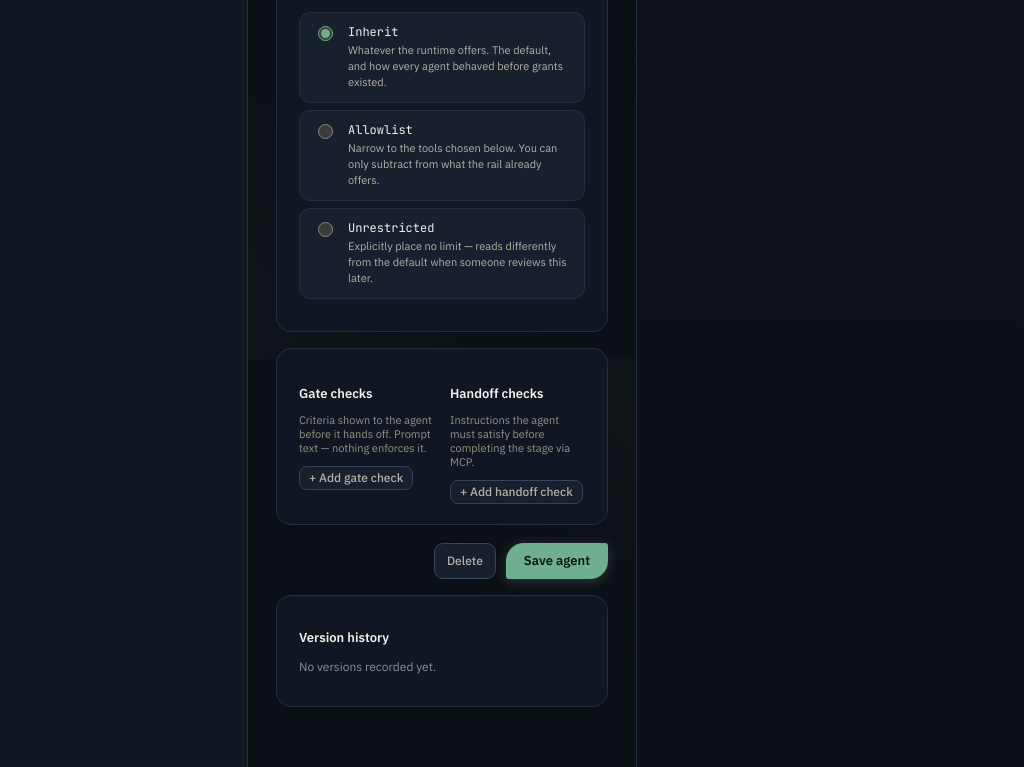
Test case: cancelling the confirm › can be reopened after a cancel
(page scrolled)
Step 1. Click the button "Delete" → (465, 561), box [434,543,496,579]
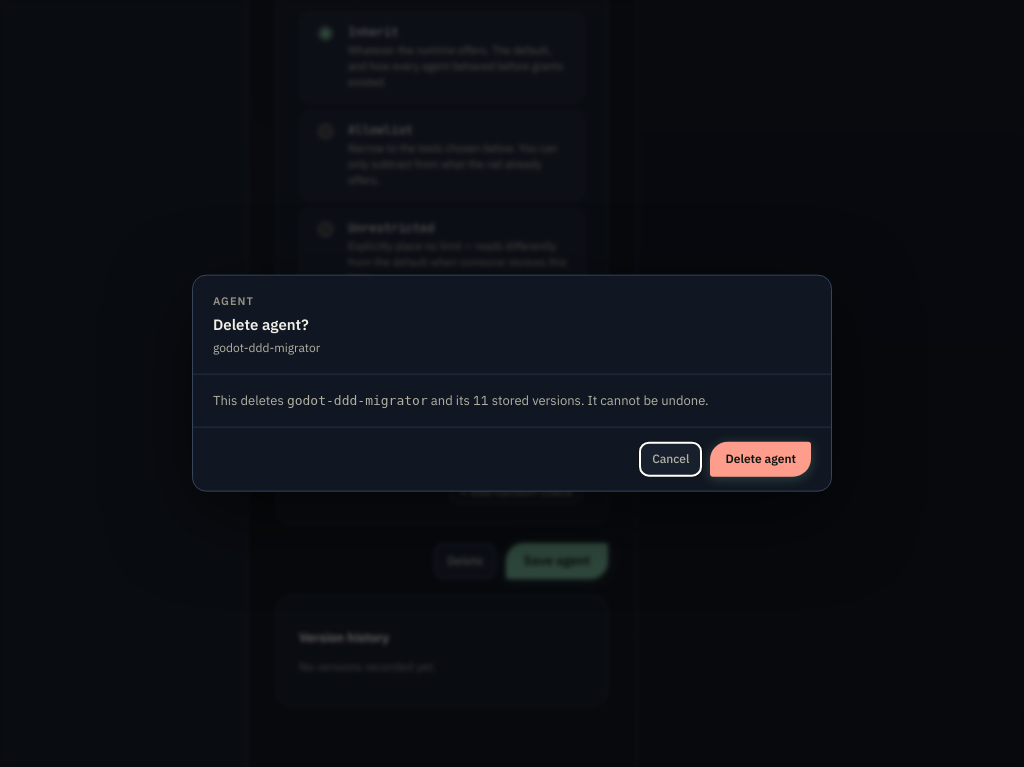
Step 2. Click the button "Cancel" → (671, 459), box [639,442,702,476]
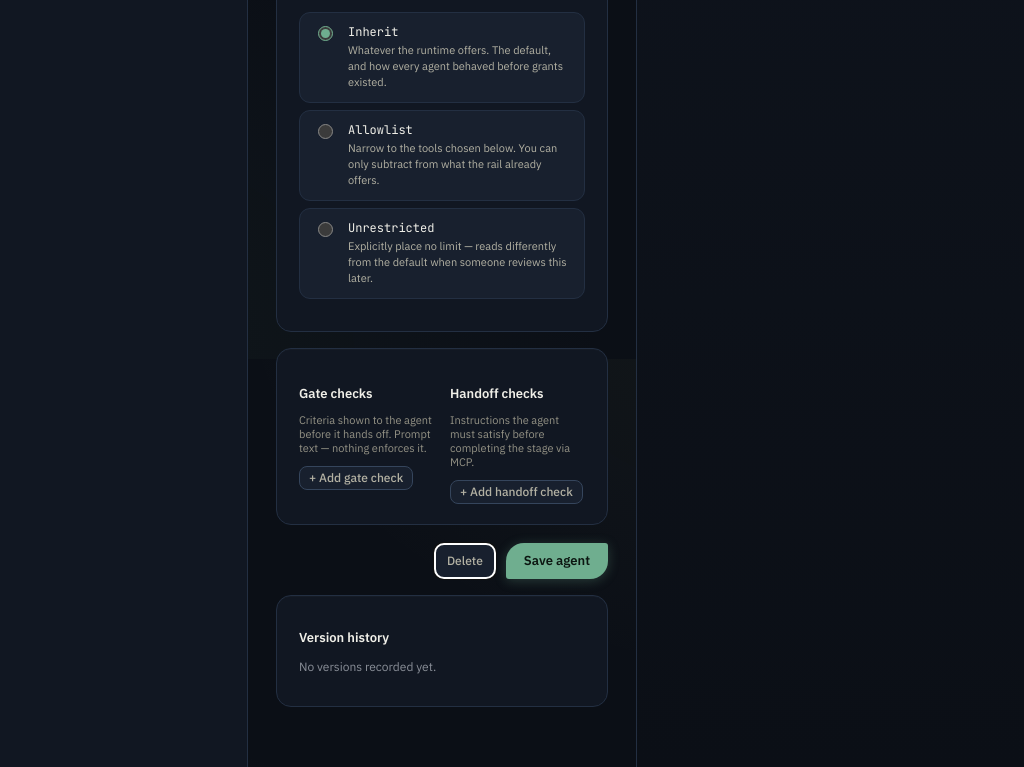
expect the dialog is gone: met
Step 3. Click the button "Delete" → (465, 561), box [434,543,496,579]
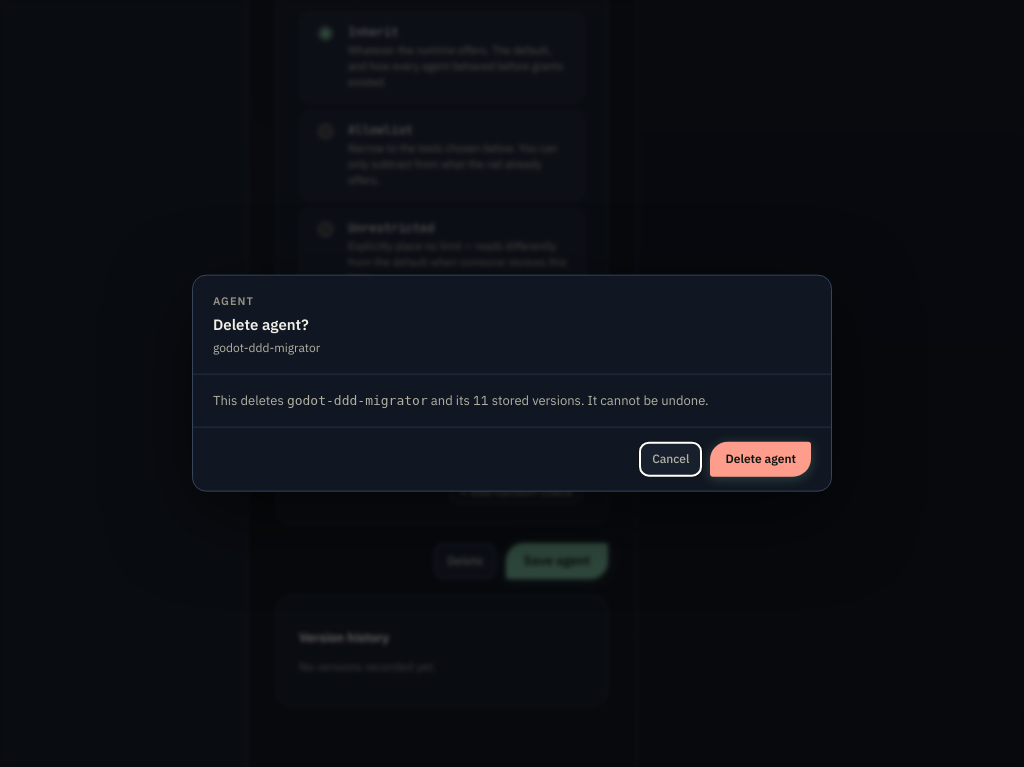
expect the dialog is shown: met, box [192,275,832,491]
